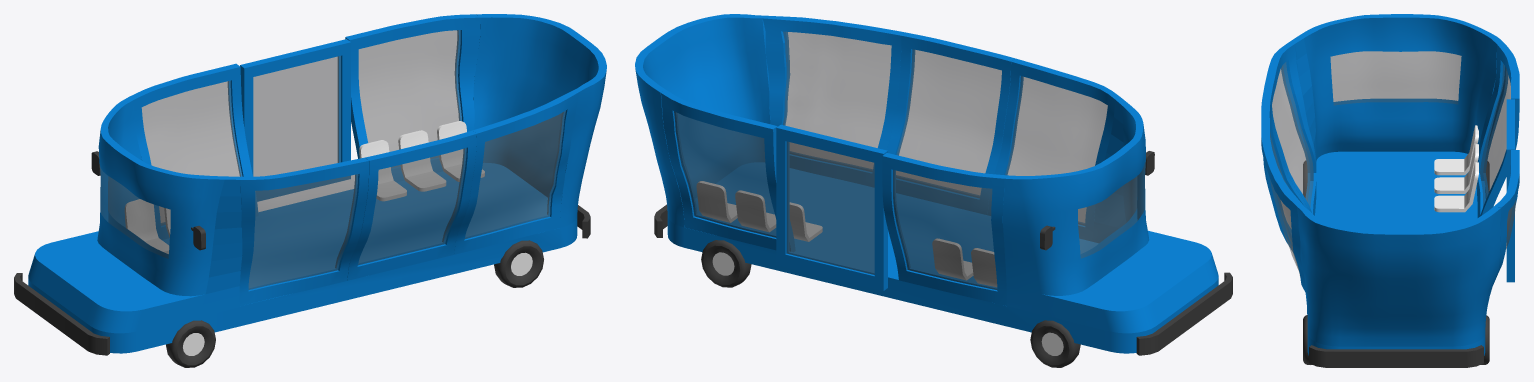
The model's file is Bus-Parts.fbx.
The picture shows the model from 3 angles, left to right: view 1: azimuth 30°, elevation 25°; view 2: azimuth 150°, elevation 25°; view 3: azimuth 270°, elevation 25°; orthographic projection. The views are drawn at different scales.
Visible parts, largest first — view 1: base, p2, p1, p4, p7, door, p5, p6, p3, seats, p8; view 2: p2, base, p6, p1, p5, door, p3, p7, p4, seats, p8; view 3: p2, p1, base, p4, p3, seats, p6, p7, p5, door.
Part boxes in pixels (bbox=[...]): base: bbox=[14, 163, 590, 367]; p2: bbox=[28, 97, 242, 333]; p1: bbox=[473, 14, 606, 227]; p4: bbox=[236, 157, 368, 305]; p7: bbox=[345, 14, 480, 181]; door: bbox=[240, 39, 350, 201]; p5: bbox=[347, 130, 476, 280]; p6: bbox=[454, 88, 578, 254]; p3: bbox=[129, 63, 258, 239]; seats: bbox=[125, 121, 484, 253]; p8: bbox=[91, 151, 205, 250]; p2: bbox=[1003, 96, 1218, 333]; base: bbox=[654, 162, 1232, 367]; p6: bbox=[762, 16, 905, 187]; p1: bbox=[635, 14, 770, 227]; p5: bbox=[887, 32, 1015, 214]; door: bbox=[776, 124, 887, 290]; p3: bbox=[882, 153, 1008, 305]; p7: bbox=[661, 89, 795, 251]; p4: bbox=[988, 58, 1118, 241]; seats: bbox=[696, 181, 996, 286]; p8: bbox=[1040, 151, 1154, 250]; p2: bbox=[1287, 14, 1504, 180]; p1: bbox=[1297, 206, 1501, 346]; base: bbox=[1303, 151, 1489, 367]; p4: bbox=[1262, 43, 1316, 215]; p3: bbox=[1476, 44, 1519, 217]; seats: bbox=[1434, 125, 1478, 212]; p6: bbox=[1263, 150, 1307, 307]; p7: bbox=[1485, 150, 1519, 326]; p5: bbox=[1261, 98, 1309, 231]; door: bbox=[1506, 99, 1514, 282].
Bounding box in the file's own units: 0.0968 × 0.0323 × 0.0418.
